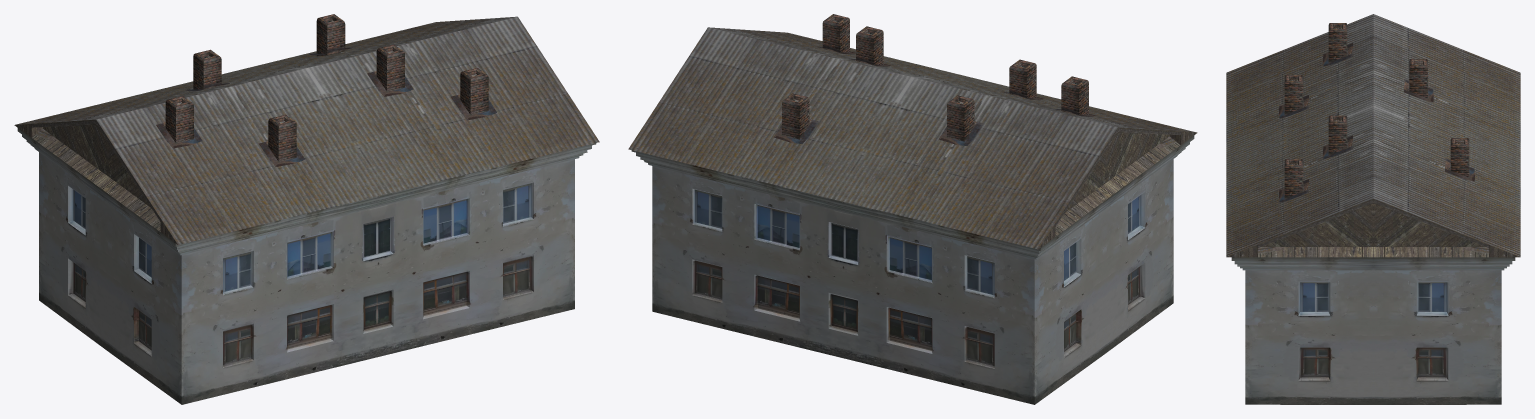
The model's file is house_1.glb.
3 renders of one model, left to right at view 1: azimuth 30°, elevation 25°; view 2: azimuth 150°, elevation 25°; view 3: azimuth 270°, elevation 25°, orthographic. The views are drawn at different scales.
Size of the model in its own units: 17.96 by 10.33 by 12.09.
1 material, 1 textured.
